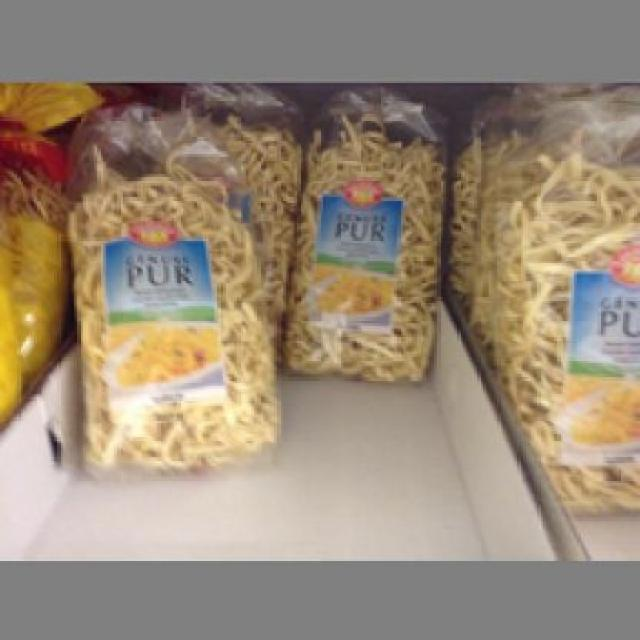Pasta: (62, 111, 275, 478), (502, 91, 638, 518), (280, 83, 446, 380)
